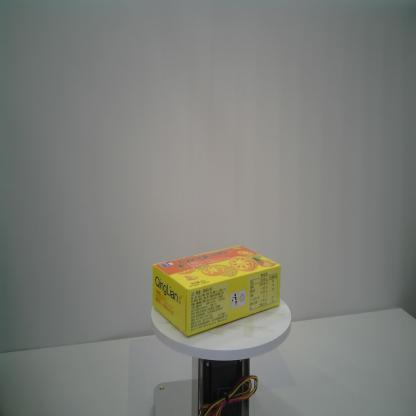Dessert: (151, 243, 282, 338)
